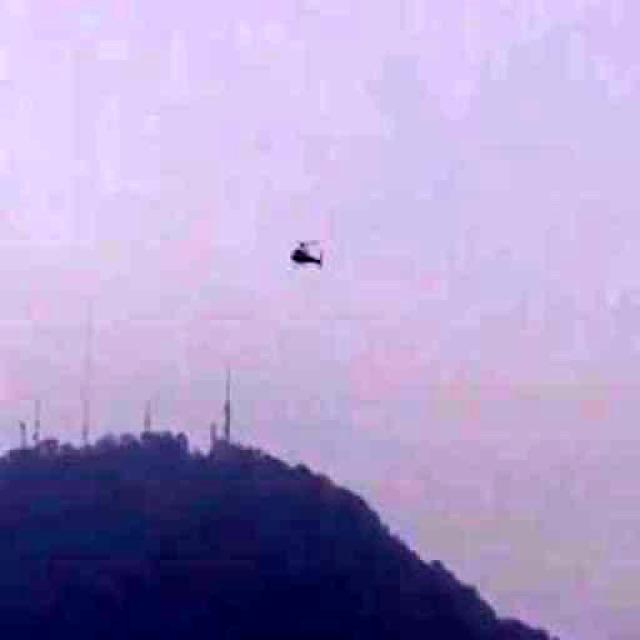drone: (260, 204, 344, 292)
